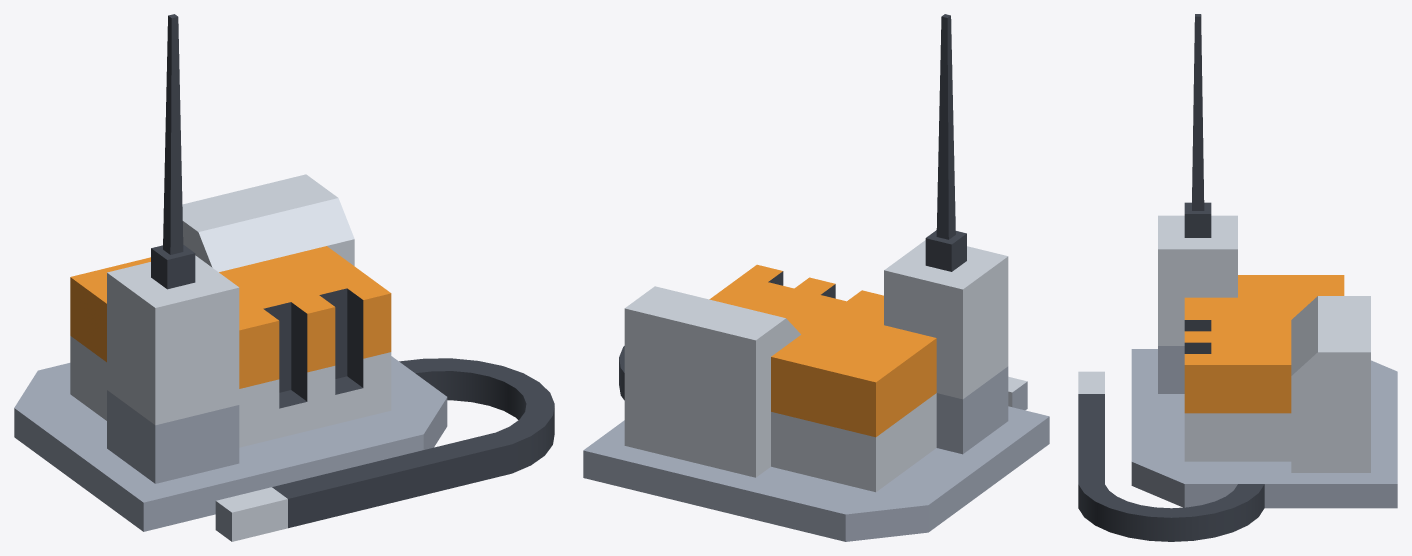
The model's file is machine_wirelessCable.glb.
3 views of the same model, side by side, from view 1: azimuth 30°, elevation 25°; view 2: azimuth 150°, elevation 25°; view 3: azimuth 270°, elevation 25° (orthographic). The views are drawn at different scales.
Parts seen in each view (by area): view 1: machine_wirelessCable, cable; view 2: machine_wirelessCable, cable; view 3: machine_wirelessCable, cable.
Boxes of the visible parts, x1,y1,x2,y2 form: machine_wirelessCable: (14,14,447,531); cable: (215,358,554,541); machine_wirelessCable: (583,14,1049,541); cable: (619,346,1027,410); machine_wirelessCable: (1131,14,1397,508); cable: (1078,371,1264,541).
Bounding box in the file's own units: 0.75 × 0.8 × 0.6.
